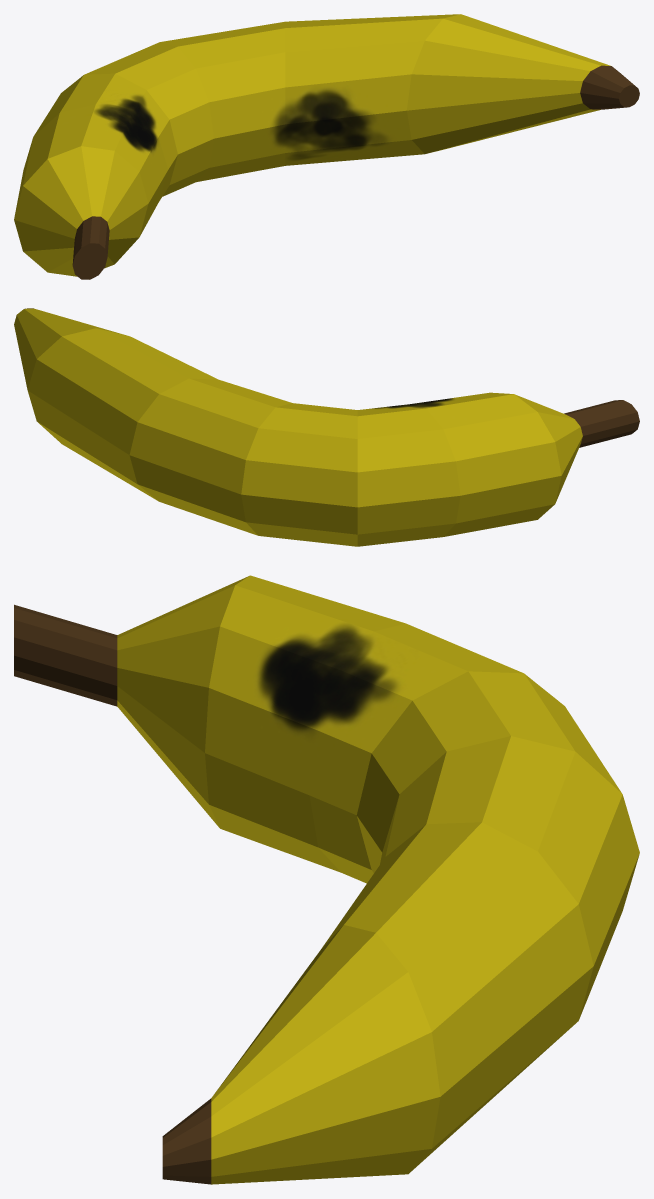
Rendered from SM_Banana_01.fbx.
3 views of the same model, one above another, from view 1: azimuth 30°, elevation 25°; view 2: azimuth 150°, elevation 25°; view 3: azimuth 270°, elevation 25° (orthographic). The views are drawn at different scales.
Visible parts, largest first — view 1: Torus; view 2: Torus; view 3: Torus.
Boxes of the visible parts, <box> form: Torus: <box>14,14,639,279</box>; Torus: <box>14,308,639,546</box>; Torus: <box>14,575,639,1184</box>.
Size of the model in its own units: 0.3231 by 0.0668 by 0.1616.
